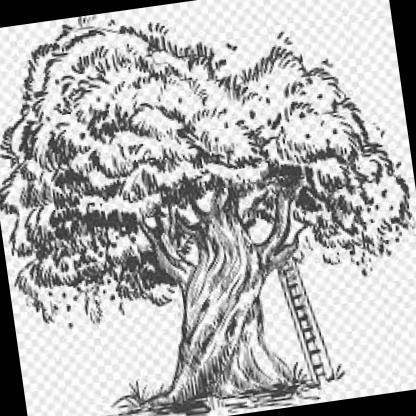crown_dizzy: (0, 0, 416, 331)
